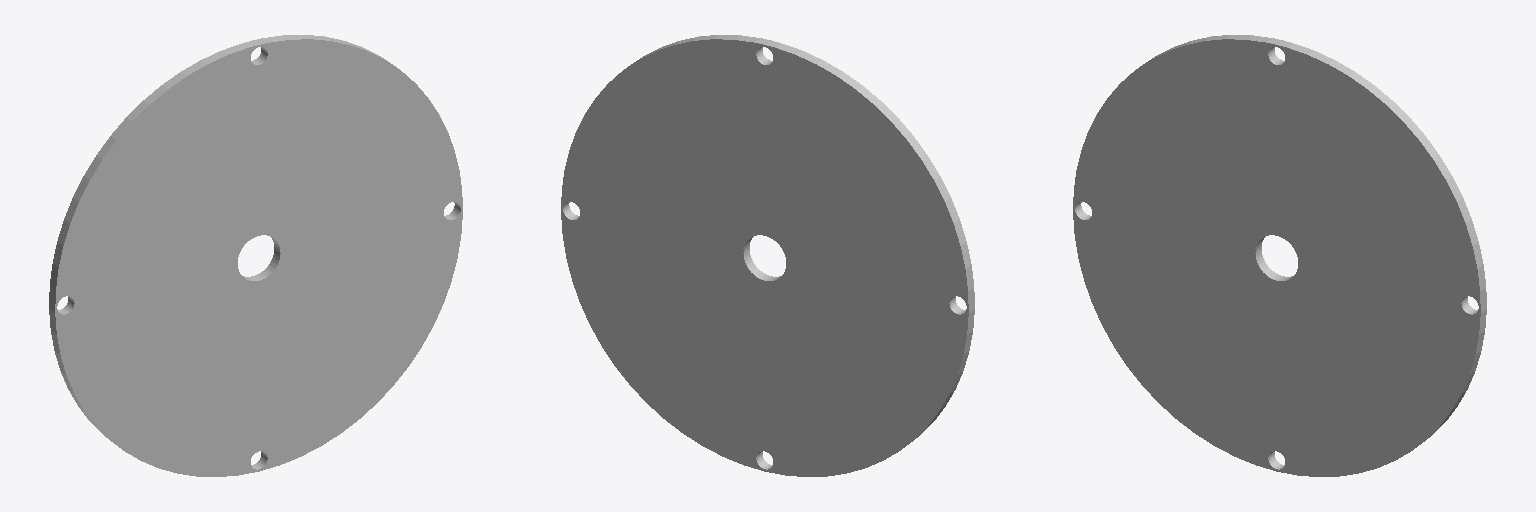
File: 散热片.obj
3 renders of one model, left to right at view 1: azimuth 30°, elevation 25°; view 2: azimuth 150°, elevation 25°; view 3: azimuth 330°, elevation 25°, orthographic.
Parts seen in each view (by area): view 1: ______; view 2: ______; view 3: ______.
Part boxes in pixels (x1,y1,x2,y2): ______: (49,35,462,476); ______: (561,35,974,476); ______: (1073,35,1486,476).
Bounding box in the file's own units: 190 × 190 × 5.